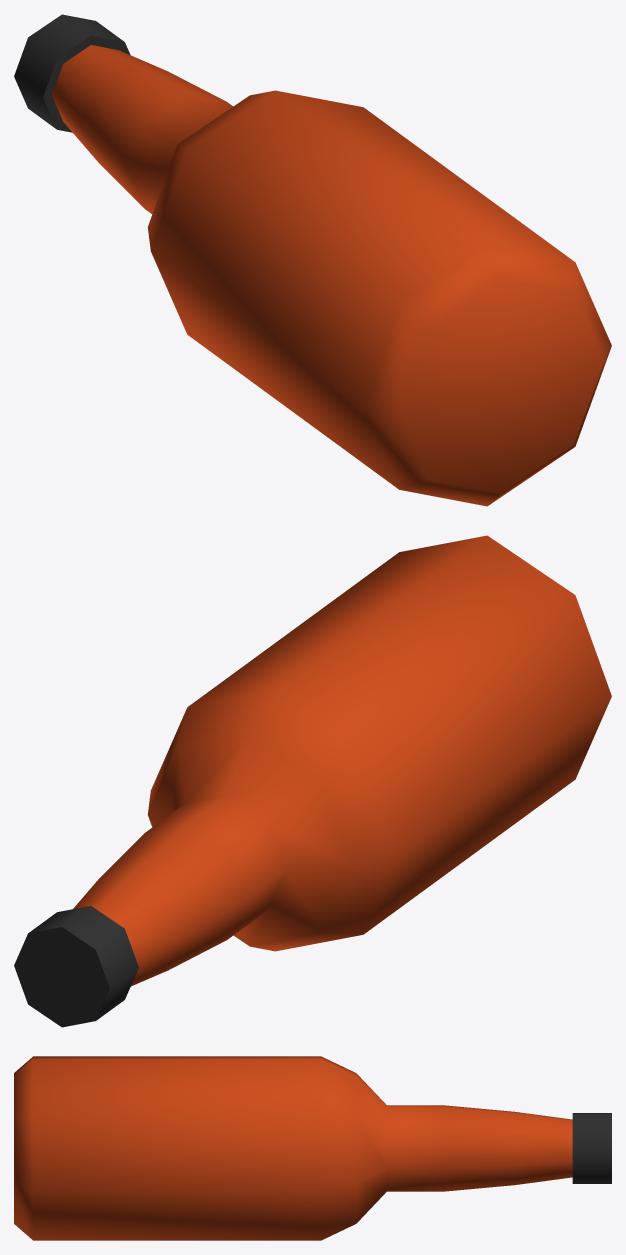
The model's file is ChineseShop_Dif2_Sc1.fbx.
3 views of the same model, one above another, from view 1: azimuth 30°, elevation 25°; view 2: azimuth 150°, elevation 25°; view 3: azimuth 270°, elevation 25° (orthographic). The views are drawn at different scales.
Visible parts, largest first — view 1: ChineseShop_Dif2_Sc1; view 2: ChineseShop_Dif2_Sc1; view 3: ChineseShop_Dif2_Sc1.
Boxes of the visible parts, <box> form: ChineseShop_Dif2_Sc1: <box>14,14,611,506</box>; ChineseShop_Dif2_Sc1: <box>14,535,611,1027</box>; ChineseShop_Dif2_Sc1: <box>14,1056,611,1240</box>.
Size of the model in its own units: 0.4052 by 1.24 by 0.4052.
